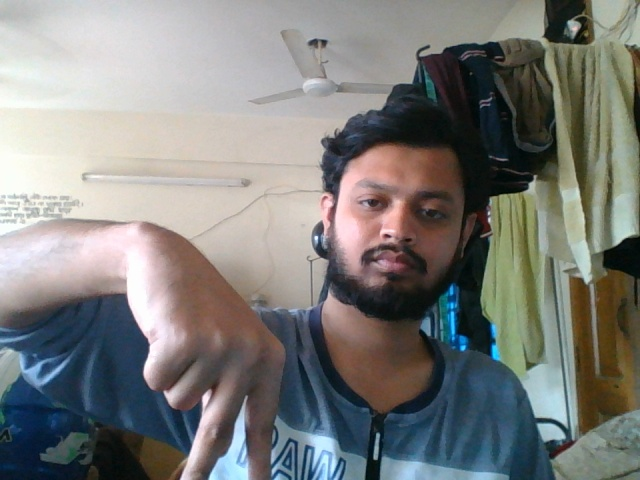pa: (119, 220, 297, 480)
